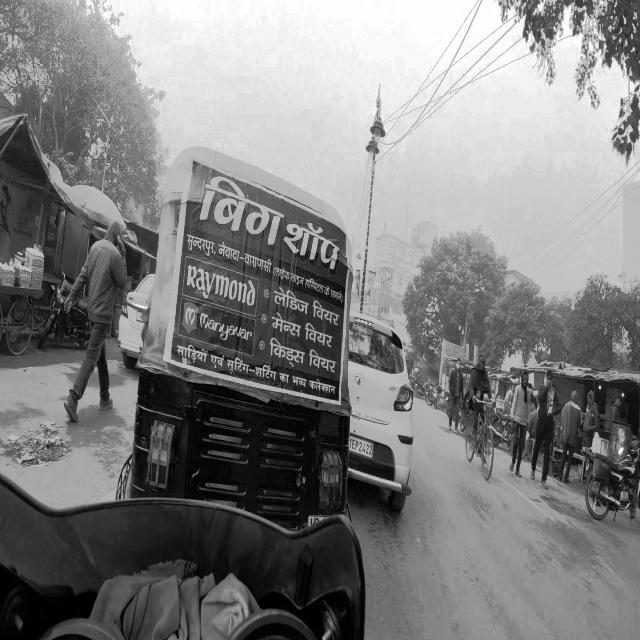Auto-Rickshaw: (146, 133, 354, 532)
Car: (344, 286, 416, 520)
